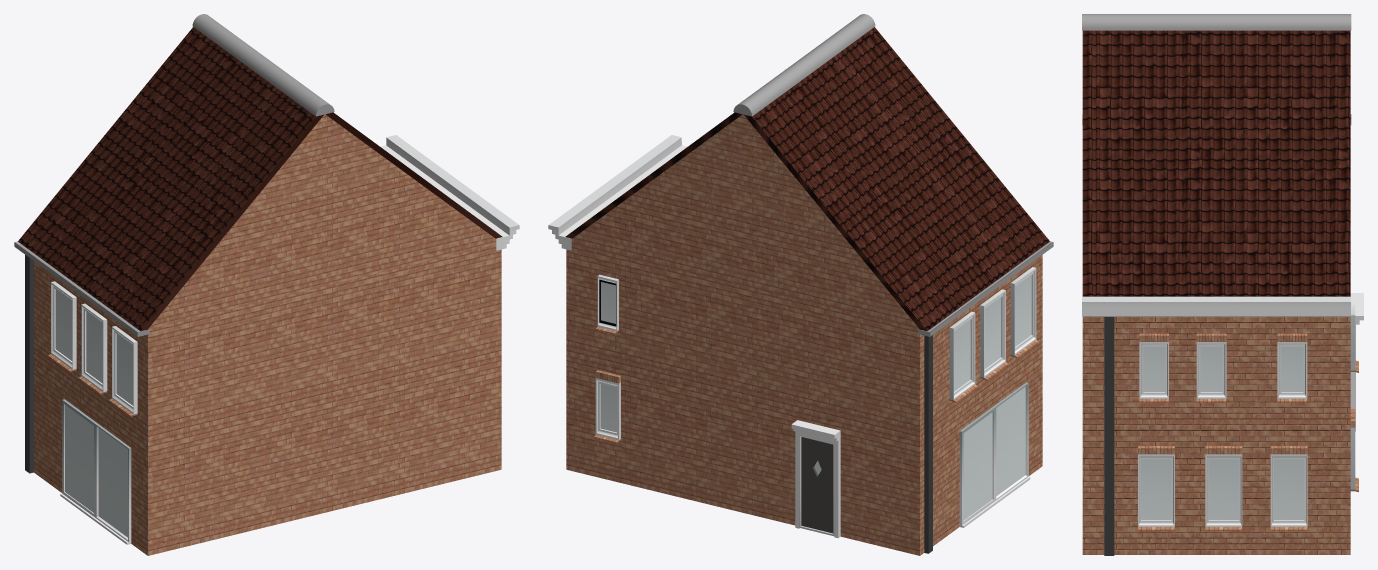
Rendered from It_Heafek_2.fbx.
3 views of the same model, side by side, from view 1: azimuth 30°, elevation 25°; view 2: azimuth 150°, elevation 25°; view 3: azimuth 270°, elevation 25° (orthographic). The views are drawn at different scales.
Parts seen in each view (by area): view 1: It_Heafek_2; view 2: It_Heafek_2; view 3: It_Heafek_2.
Boxes of the visible parts, box(x1,y1,x2,y2) form: It_Heafek_2: box(14, 14, 519, 555); It_Heafek_2: box(548, 14, 1053, 555); It_Heafek_2: box(1082, 14, 1363, 555).
Bounding box in the file's own units: 1023 × 1046 × 599.
